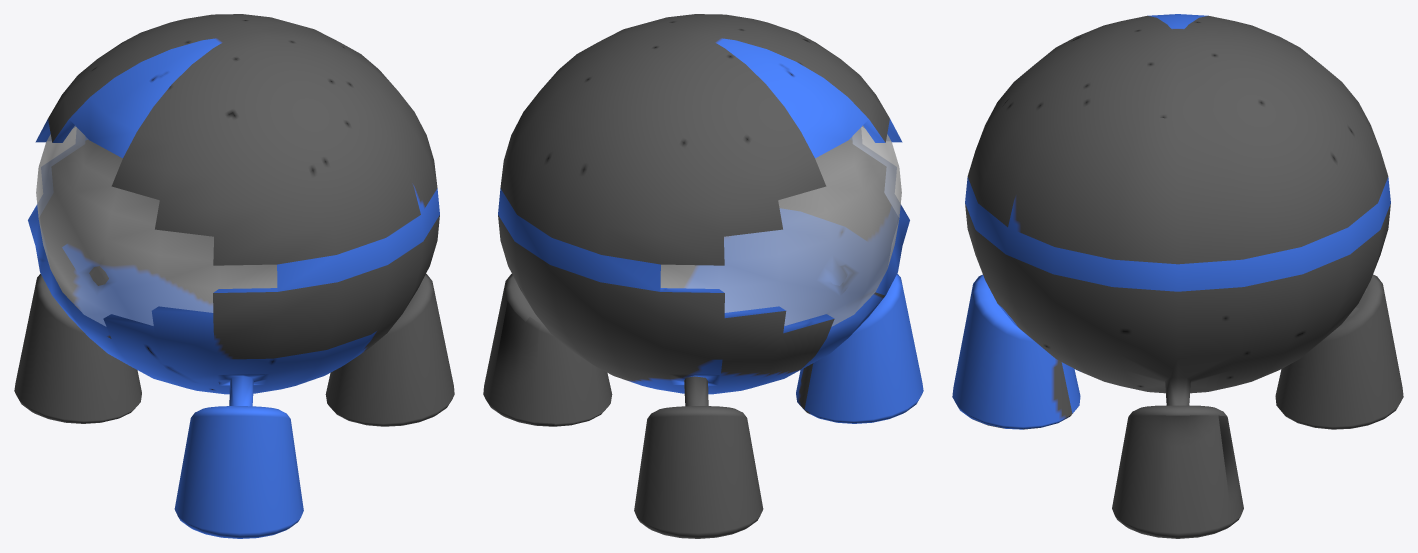
Rendered from Pod UV Fixed.fbx.
The picture shows the model from 3 angles, left to right: view 1: azimuth 30°, elevation 25°; view 2: azimuth 150°, elevation 25°; view 3: azimuth 270°, elevation 25°; orthographic projection.
Visible parts, largest first — view 1: Escape_Pod:polySurface16; view 2: Escape_Pod:polySurface16; view 3: Escape_Pod:polySurface16.
Boxes of the visible parts, x1,y1,x2,y2 form: Escape_Pod:polySurface16: (14,14,454,538); Escape_Pod:polySurface16: (483,14,923,538); Escape_Pod:polySurface16: (952,14,1403,538).
Bounding box in the file's own units: 2.91 × 2.97 × 2.98.
